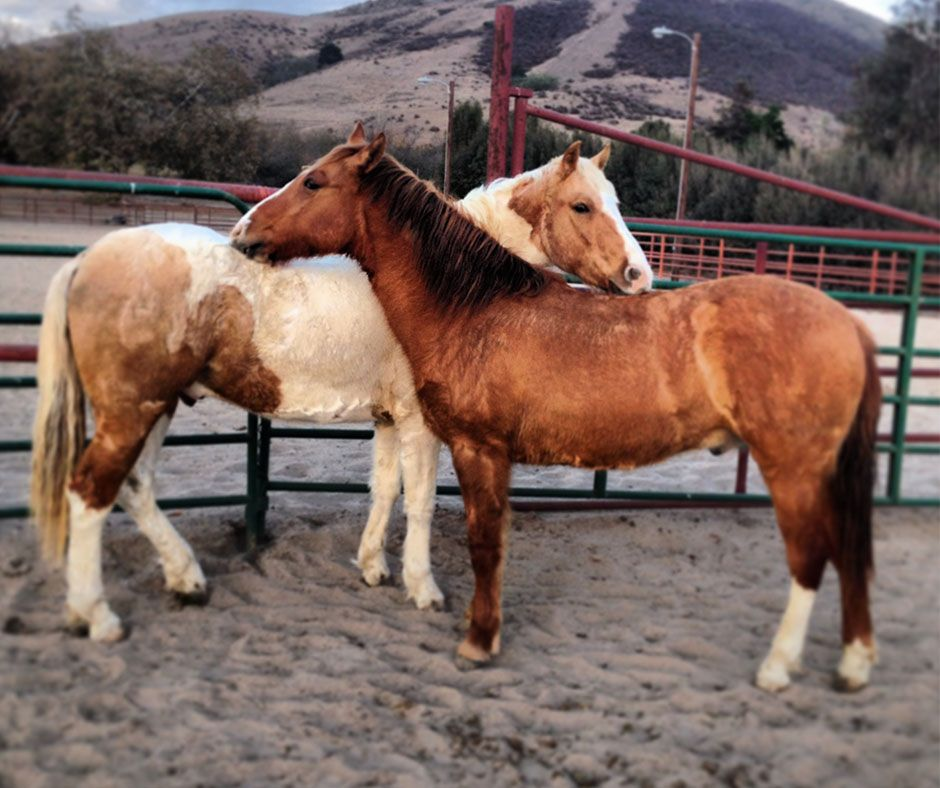Horse: (221, 119, 896, 719), (46, 146, 660, 669)
